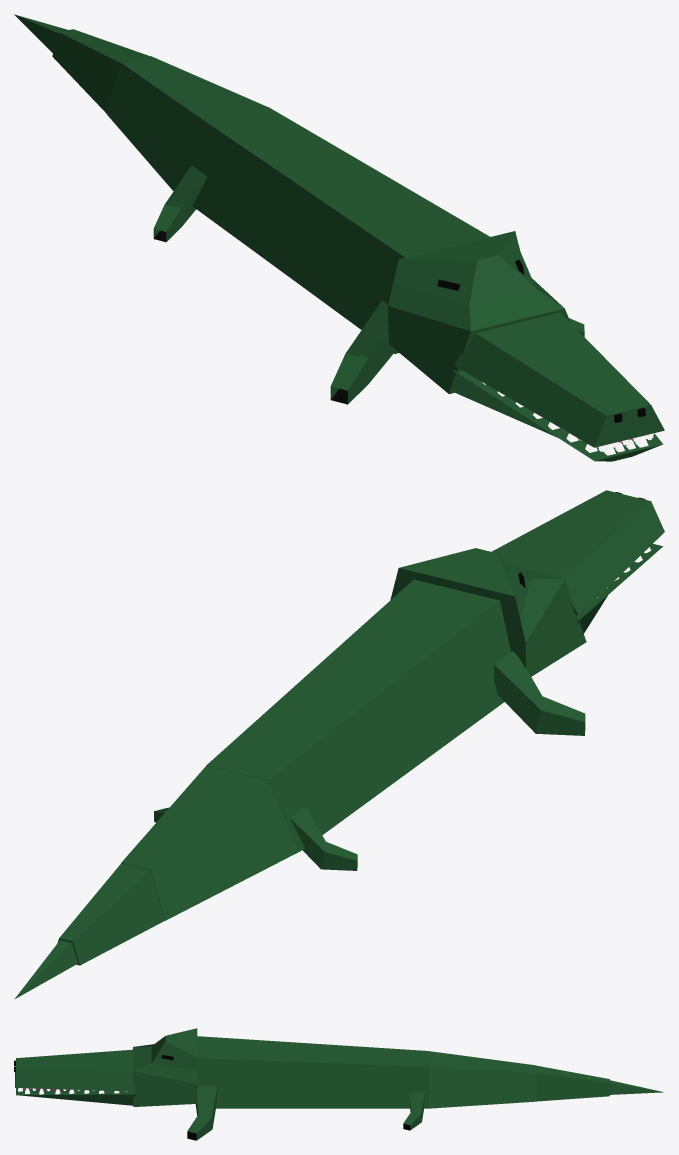
Rendered from croc.glb.
3 renders of one model, top to bottom at view 1: azimuth 30°, elevation 25°; view 2: azimuth 150°, elevation 25°; view 3: azimuth 270°, elevation 25°, orthographic. The views are drawn at different scales.
Parts seen in each view (by area): view 1: Cube; view 2: Cube; view 3: Cube.
Part boxes in pixels (x1,y1,x2,y2): Cube: (14,14,664,461); Cube: (14,490,664,999); Cube: (14,1028,663,1140).
Size of the model in its own units: 4.06 by 2.03 by 17.08.
